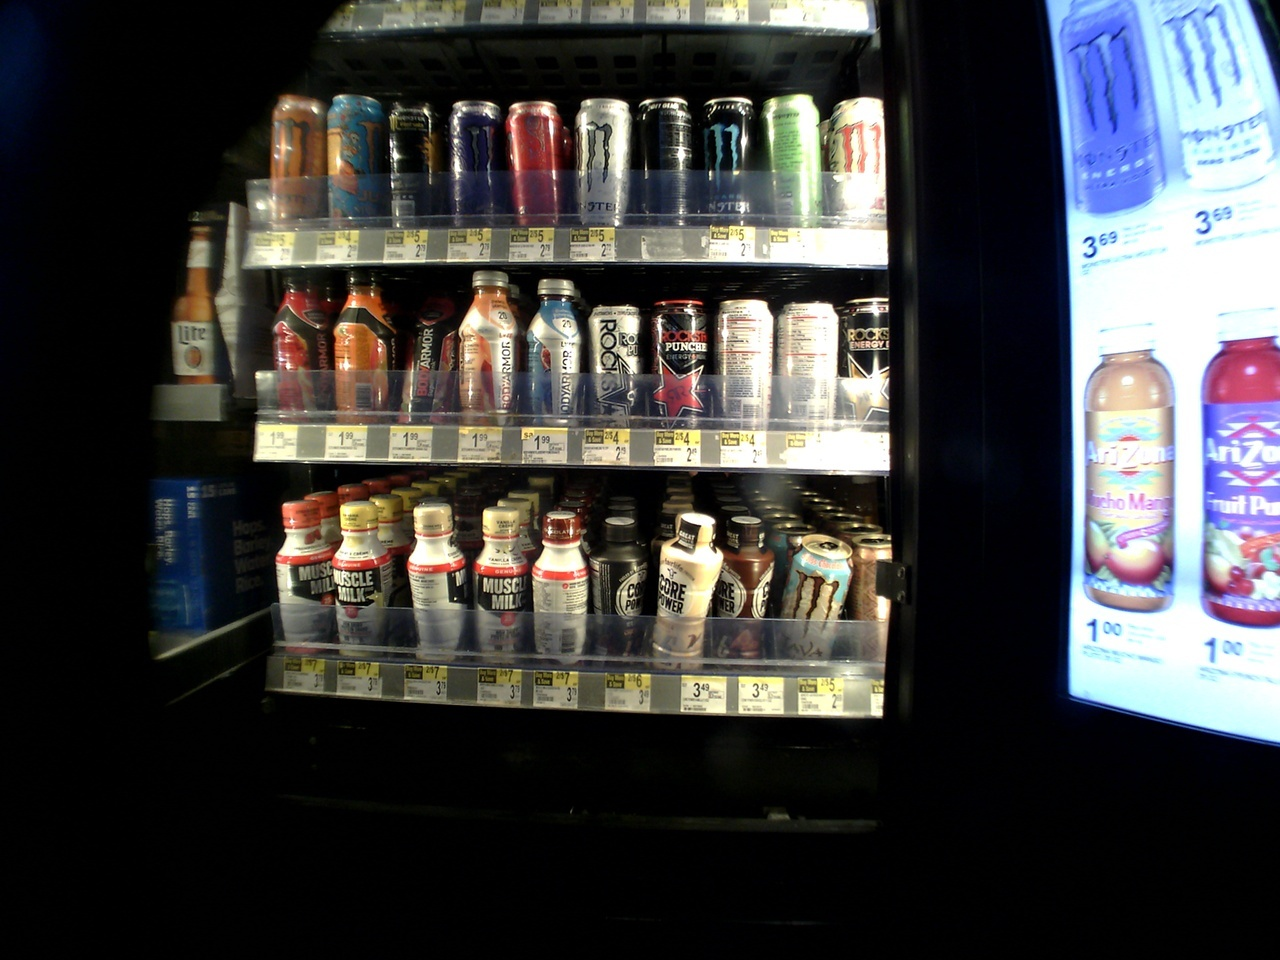shelf: (251, 472, 880, 709), (260, 42, 864, 270), (243, 263, 864, 463)
